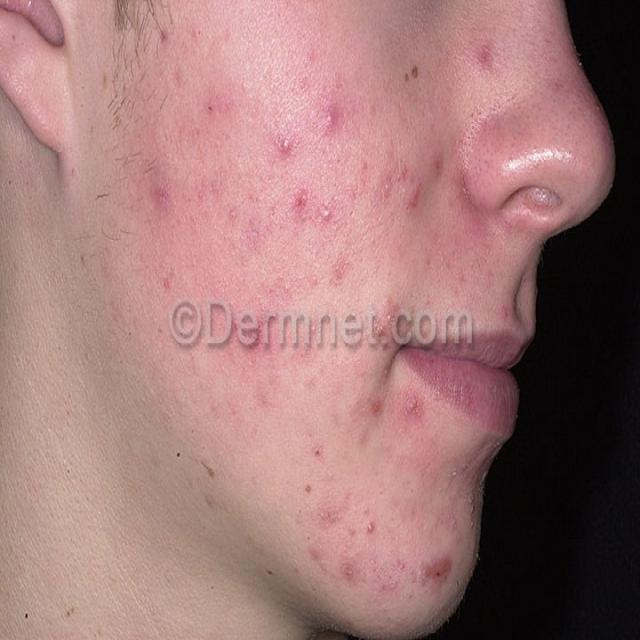blackheads: (324, 552, 369, 591), (148, 260, 178, 301), (149, 168, 172, 214), (399, 381, 426, 420), (290, 184, 307, 212), (277, 134, 296, 156), (204, 91, 220, 115), (318, 203, 336, 221), (325, 106, 337, 126), (366, 523, 376, 537)
